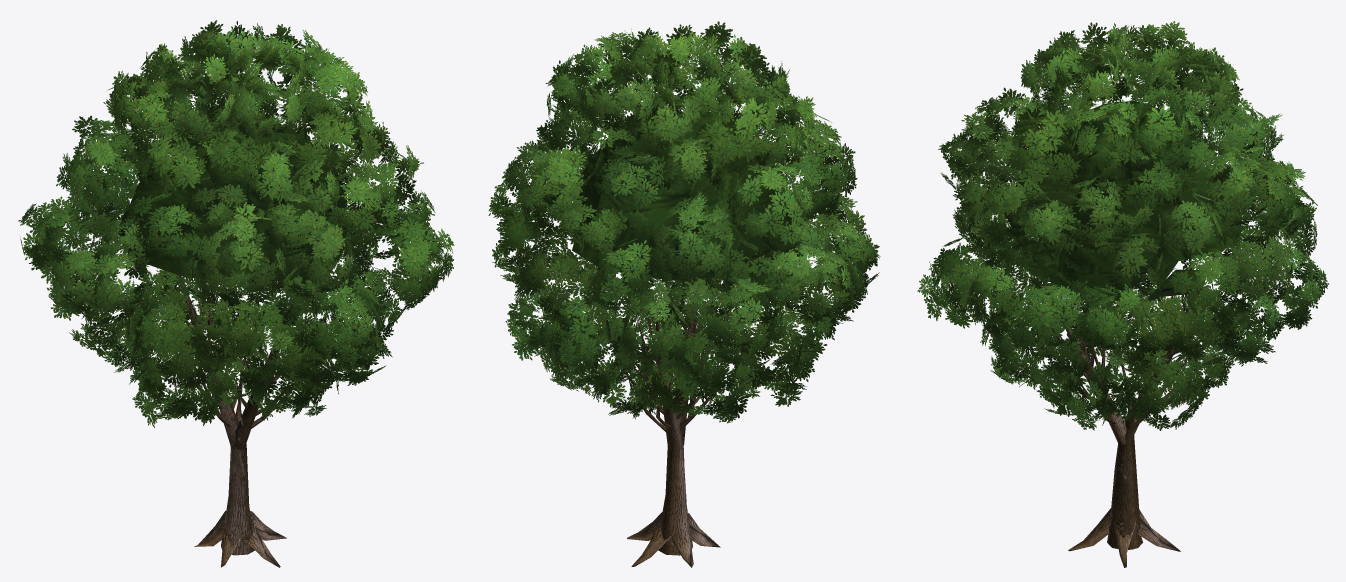
The model's file is mm6_deco_tree05.glb.
The picture shows the model from 3 angles, left to right: view 1: azimuth 30°, elevation 25°; view 2: azimuth 150°, elevation 25°; view 3: azimuth 270°, elevation 25°; orthographic projection.
Parts seen in each view (by area): view 1: Tree; view 2: Tree; view 3: Tree.
Part boxes in pixels (x1,y1,x2,y2): Tree: (18,20,454,567); Tree: (488,21,880,567); Tree: (917,21,1329,567).
Bounding box in the file's own units: 5.78 × 7.44 × 5.53.
Materials: 3 (3 with a texture image).
